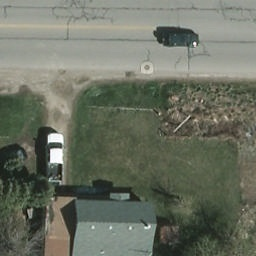car: (161, 34, 201, 47)
pickup: (41, 134, 70, 187)
